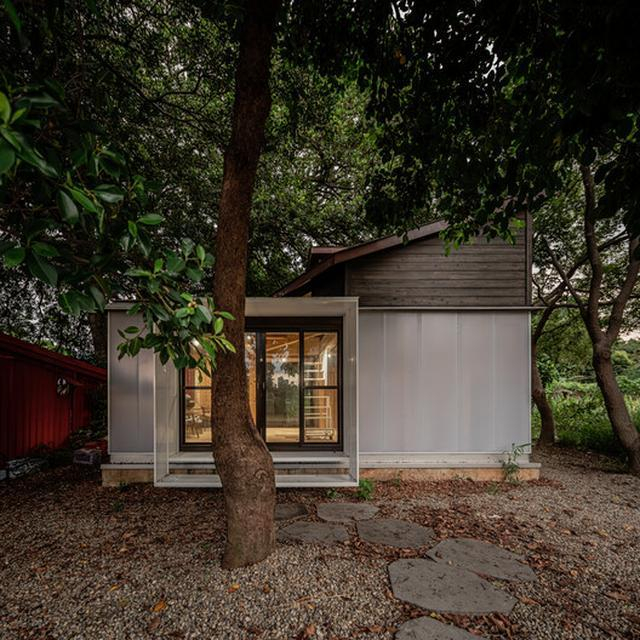building: (99, 186, 547, 484)
